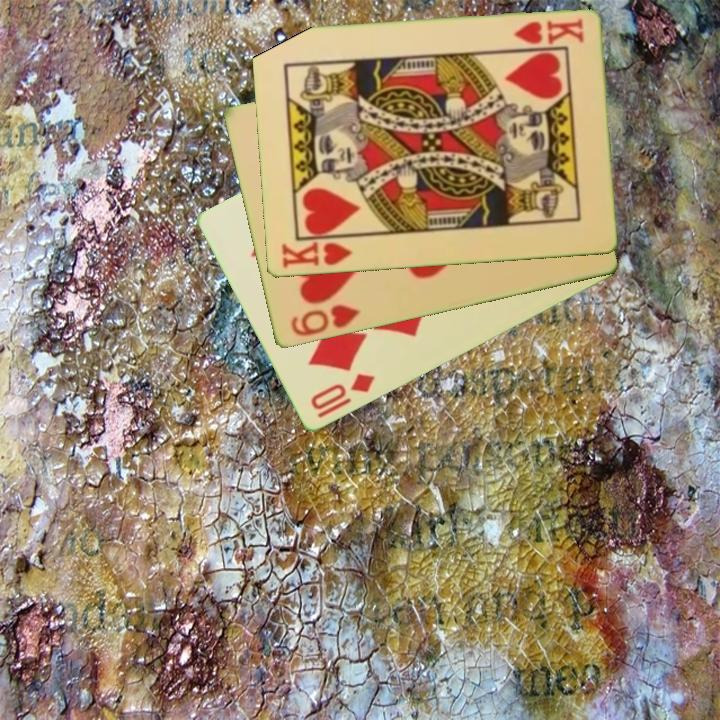10d: (306, 370, 378, 422)
6h: (287, 301, 364, 340)
Kh: (277, 234, 359, 272), (510, 16, 586, 48)
